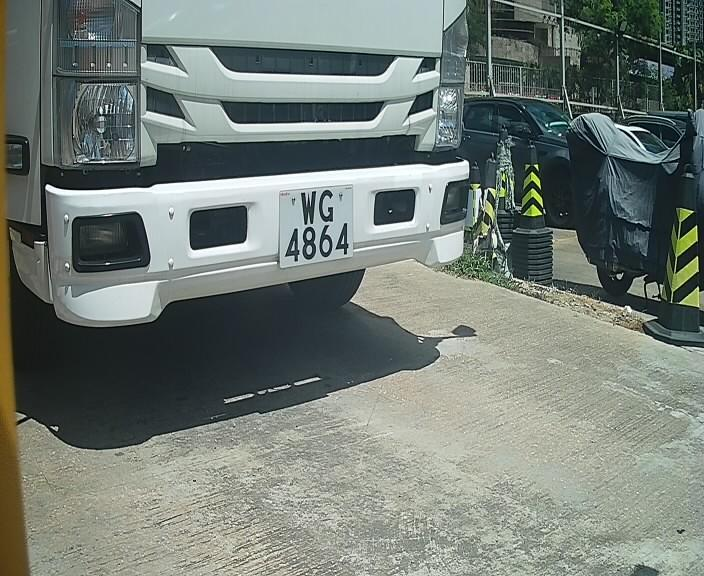License Plate: (252, 170, 371, 278)
